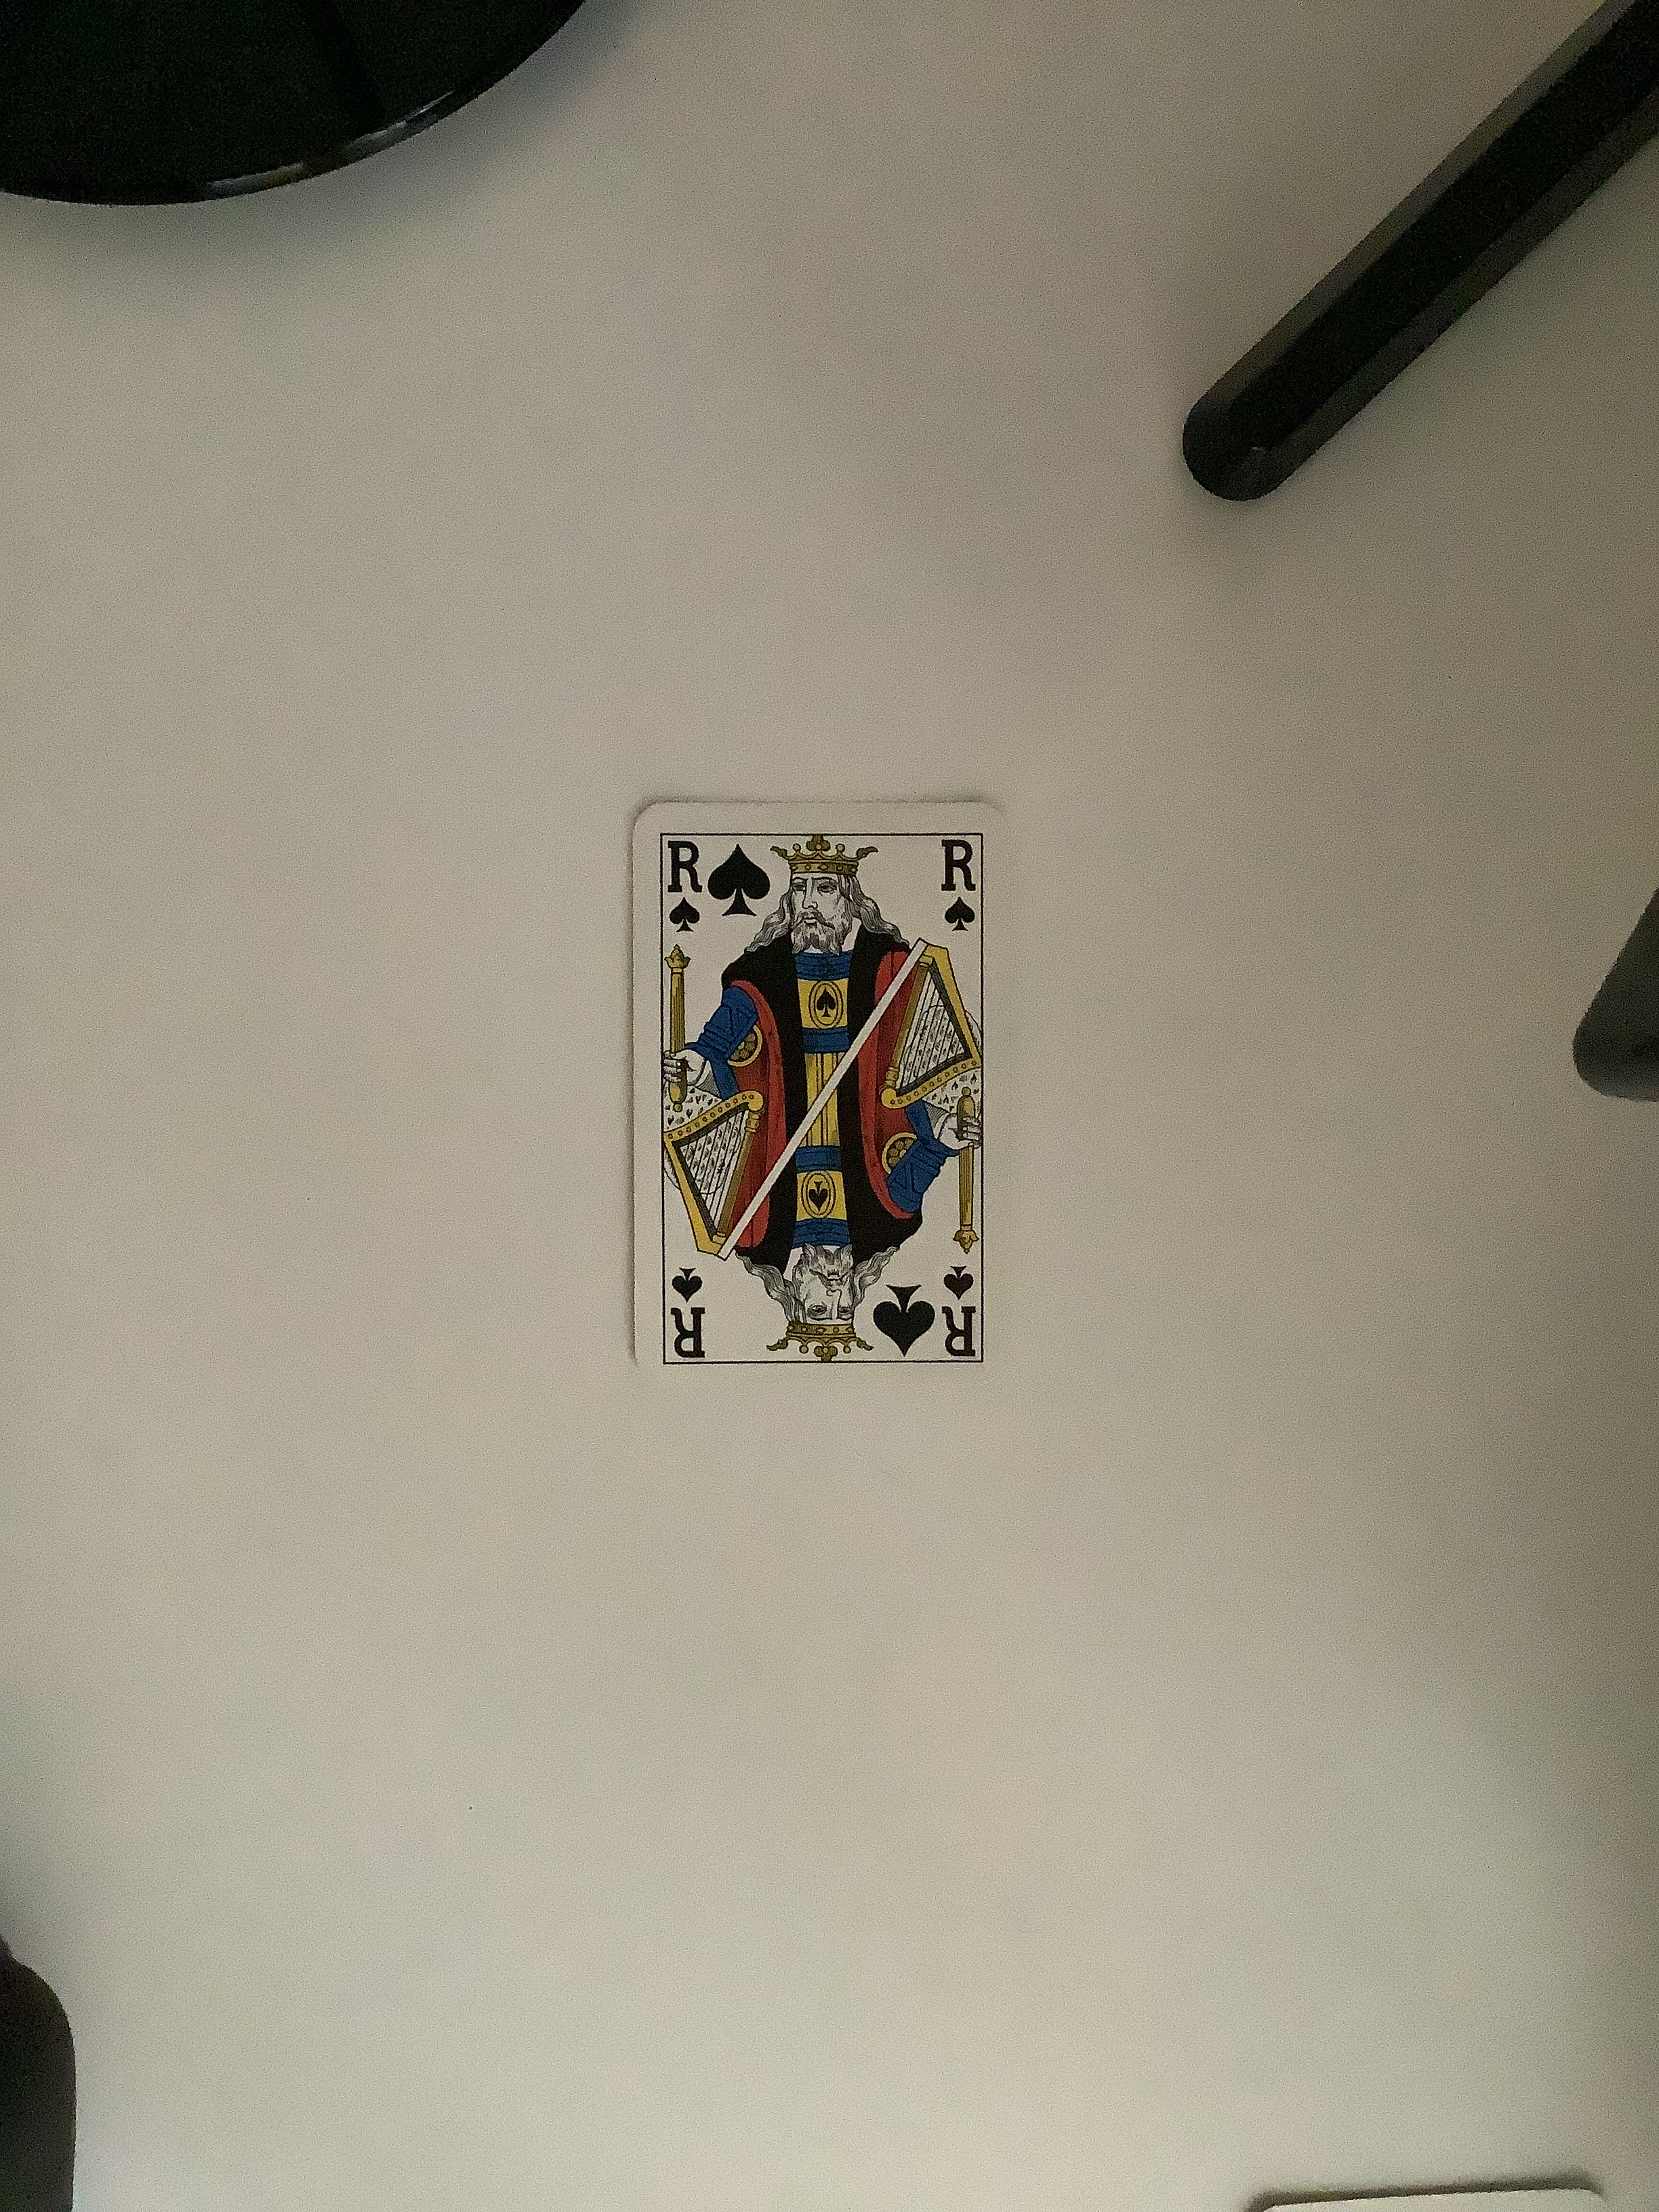♦ K: (605, 779, 1023, 1402)
